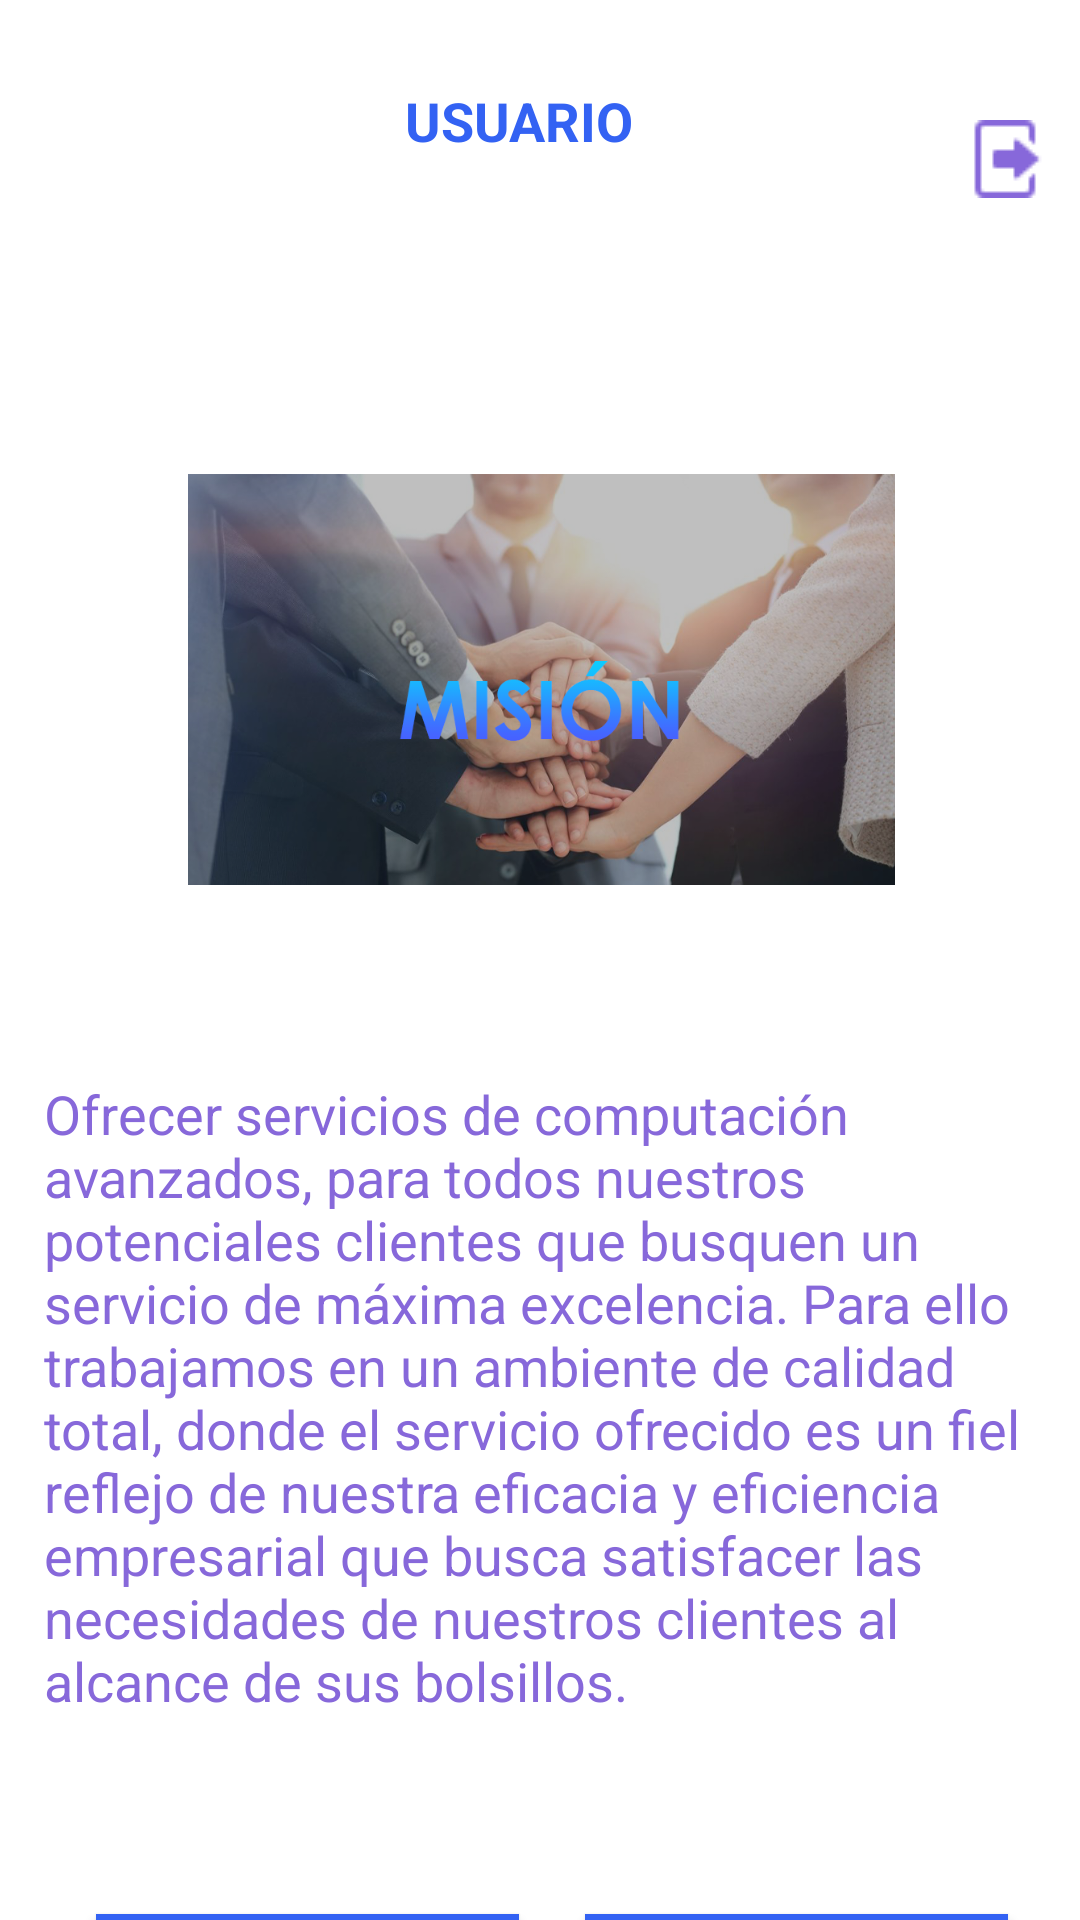

Icons on this 1080px x 1920px Android screen, each with the point to tap as [x,y]:
exit: [1006,159]
